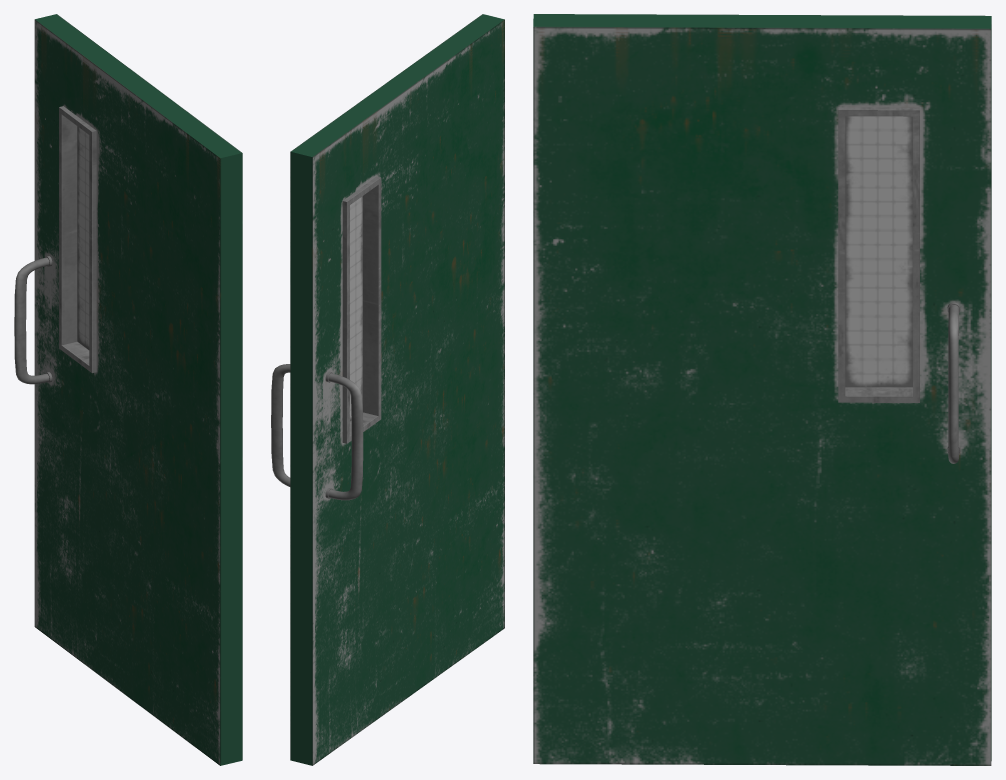
Rendered from door.obj.
3 views of the same model, side by side, from view 1: azimuth 30°, elevation 25°; view 2: azimuth 150°, elevation 25°; view 3: azimuth 270°, elevation 25° (orthographic). The views are drawn at different scales.
Parts seen in each view (by area): view 1: Glass; view 2: Glass; view 3: Glass.
Part boxes in pixels (left/top/right/bottom): Glass: left=14, top=14, right=242, bottom=765; Glass: left=271, top=14, right=504, bottom=765; Glass: left=533, top=14, right=991, bottom=765.
Bounding box in the file's own units: 0.2258 × 1.43 × 0.8052.
Materials: 1 (1 with a texture image).
